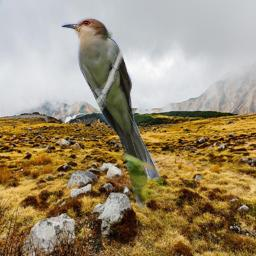Cuckoo: (61, 17, 163, 209)
